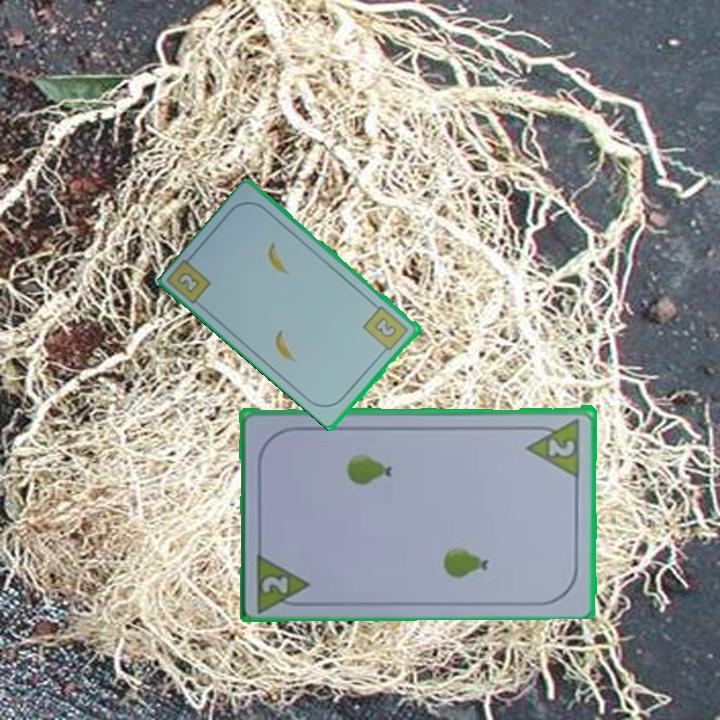2b: (360, 302, 412, 357), (174, 268, 203, 296)
2p: (253, 548, 314, 613), (524, 414, 584, 478)
